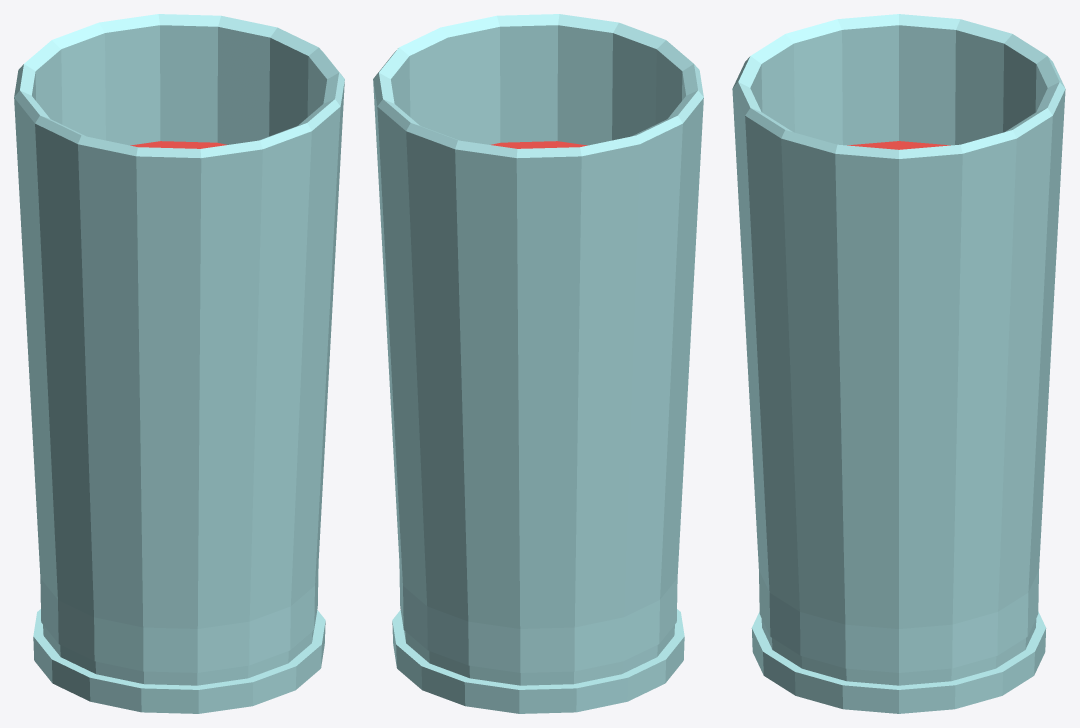
Rendered from cupFilledRed.fbx.
The picture shows the model from 3 angles, left to right: view 1: azimuth 30°, elevation 25°; view 2: azimuth 150°, elevation 25°; view 3: azimuth 270°, elevation 25°; orthographic projection.
Visible parts, largest first — view 1: Cup, Juice; view 2: Cup, Juice; view 3: Cup, Juice.
Boxes of the visible parts, left/top/right/bottom form: Cup: left=14, top=14, right=344, bottom=713; Juice: left=130, top=141, right=226, bottom=148; Cup: left=373, top=14, right=703, bottom=713; Juice: left=491, top=141, right=587, bottom=148; Cup: left=732, top=14, right=1065, bottom=713; Juice: left=847, top=141, right=950, bottom=149.
Bounding box in the file's own units: 228 × 430 × 228.
